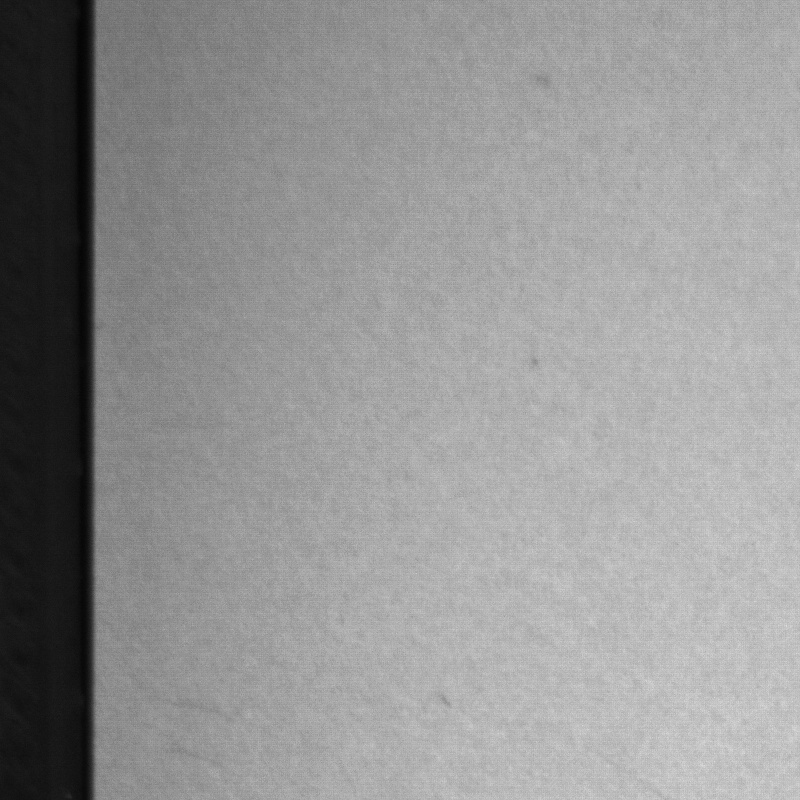defect: (531, 67, 557, 93), (437, 690, 459, 715), (522, 354, 550, 373)
